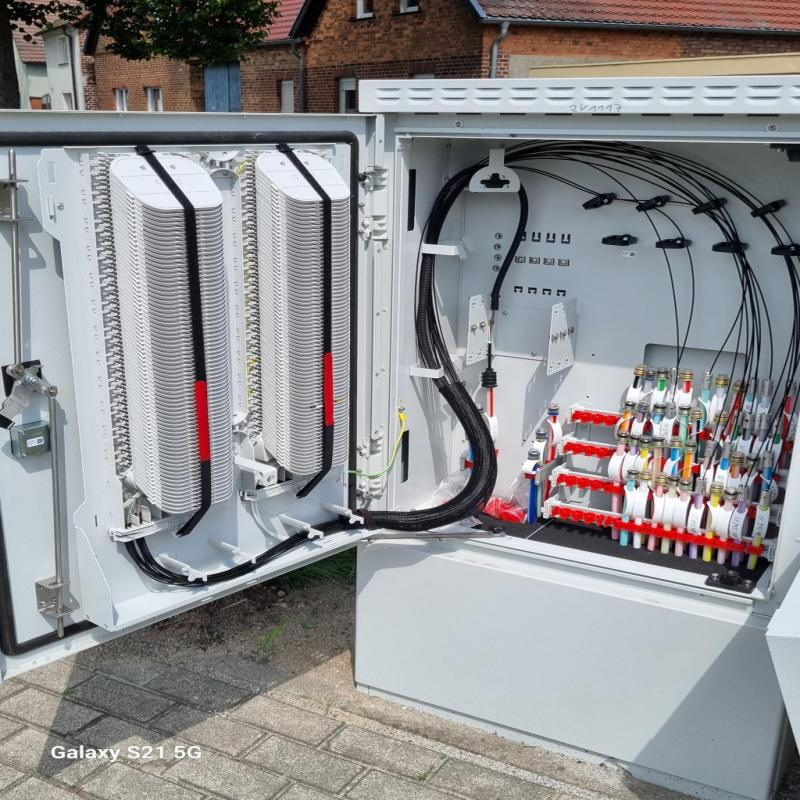NT-Gehause: (9, 77, 793, 800)
Spleiskassetten: (88, 147, 249, 525), (240, 142, 367, 489)
